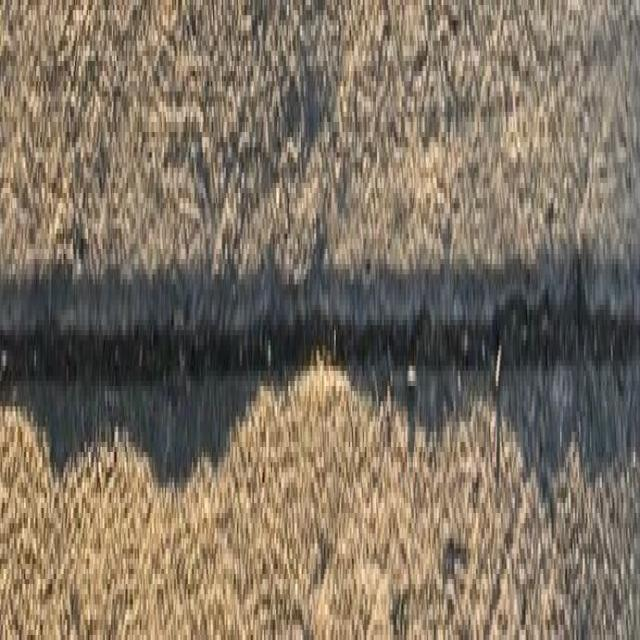hole: (0, 133, 640, 515)
